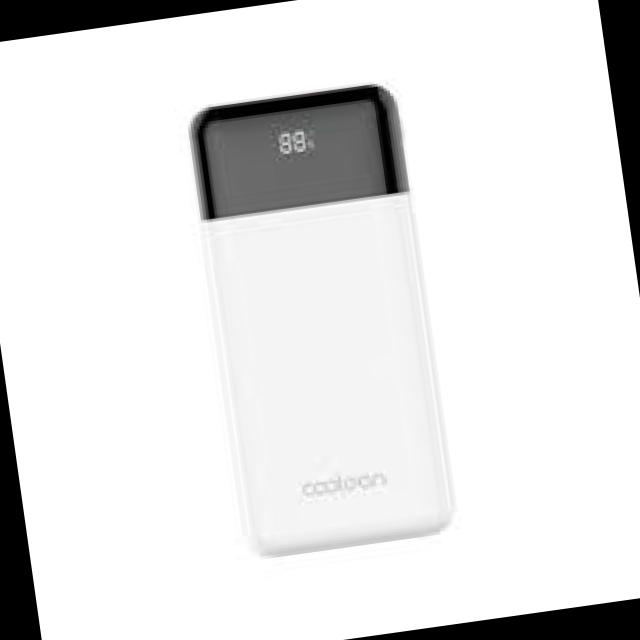portable-charger: (184, 76, 463, 566)
